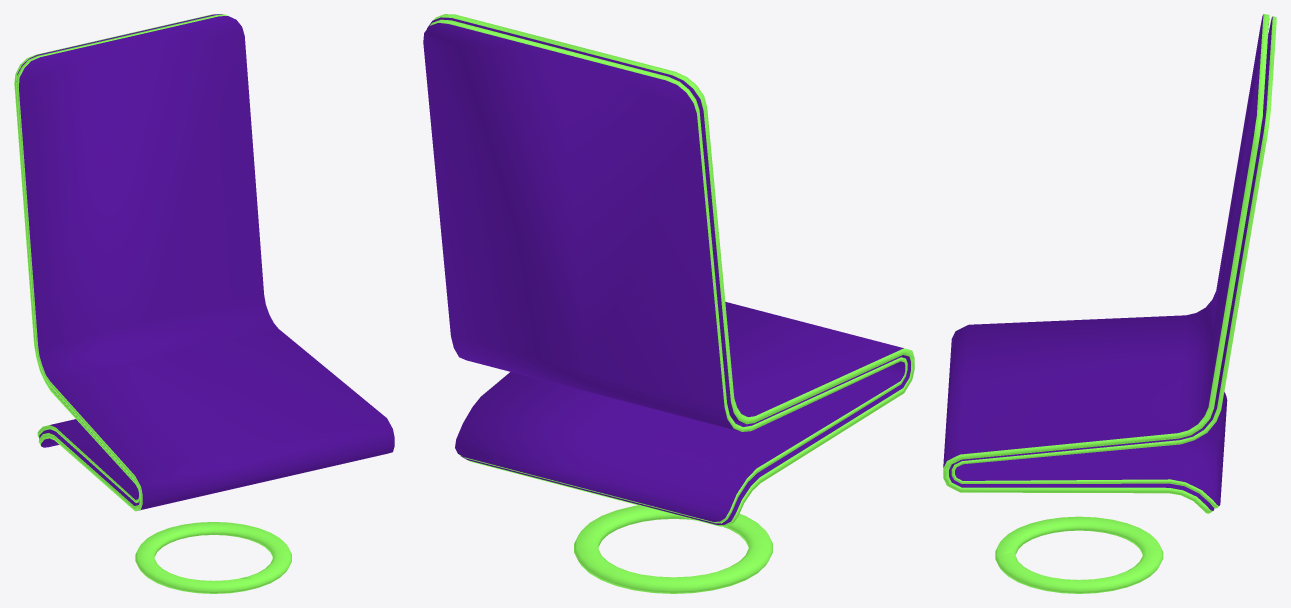
File: chair-transformed.glb
3 renders of one model, left to right at view 1: azimuth 30°, elevation 25°; view 2: azimuth 150°, elevation 25°; view 3: azimuth 270°, elevation 25°, orthographic. The views are drawn at different scales.
Parts seen in each view (by area): view 1: lofi_chair, lofi_chair_torus_lofi_chair_corners_0; view 2: lofi_chair, lofi_chair_torus_lofi_chair_corners_0; view 3: lofi_chair, lofi_chair_torus_lofi_chair_corners_0.
Boxes of the visible parts, bbox=[...] form: lofi_chair: bbox=[14, 14, 394, 511]; lofi_chair_torus_lofi_chair_corners_0: bbox=[135, 522, 291, 593]; lofi_chair: bbox=[423, 14, 914, 526]; lofi_chair_torus_lofi_chair_corners_0: bbox=[574, 505, 772, 593]; lofi_chair: bbox=[943, 14, 1276, 513]; lofi_chair_torus_lofi_chair_corners_0: bbox=[995, 516, 1163, 593].
Bounding box in the file's own units: 268 × 477 × 290.
Materials: 1 (1 with a texture image).
